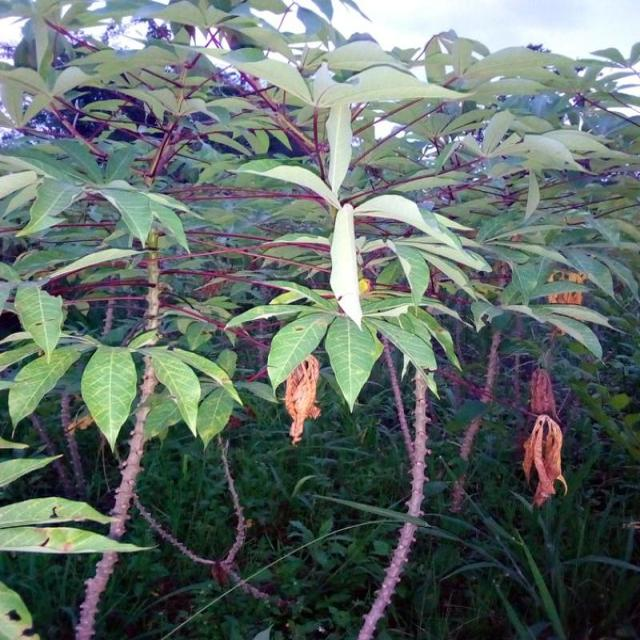cassava leaf: (79, 343, 137, 452), (324, 314, 383, 412)
